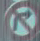Don't turn right: (4, 1, 38, 40)
